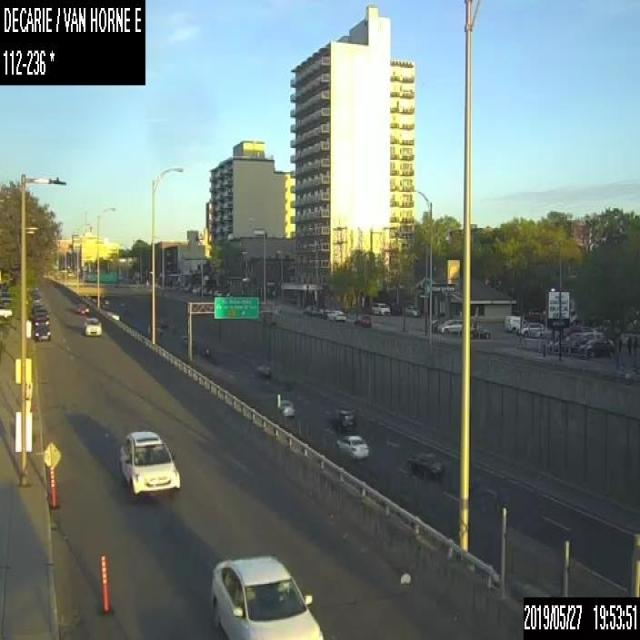construction: (41, 440, 62, 508), (98, 553, 113, 616)
pedestrian: (627, 334, 631, 354), (632, 336, 636, 353)
vehicle: (207, 553, 324, 639), (117, 428, 179, 500), (406, 452, 444, 477), (336, 434, 369, 459), (327, 407, 355, 433), (580, 338, 612, 355), (502, 314, 526, 332), (82, 317, 102, 336), (437, 318, 461, 332), (254, 360, 272, 377), (33, 322, 50, 340), (520, 322, 543, 335), (276, 398, 294, 414), (370, 301, 390, 314), (354, 312, 371, 327), (326, 309, 346, 321), (402, 303, 420, 316), (470, 328, 490, 338), (34, 312, 48, 326), (76, 302, 89, 314), (34, 307, 48, 318), (181, 335, 194, 346), (201, 346, 212, 358), (213, 288, 222, 296)
